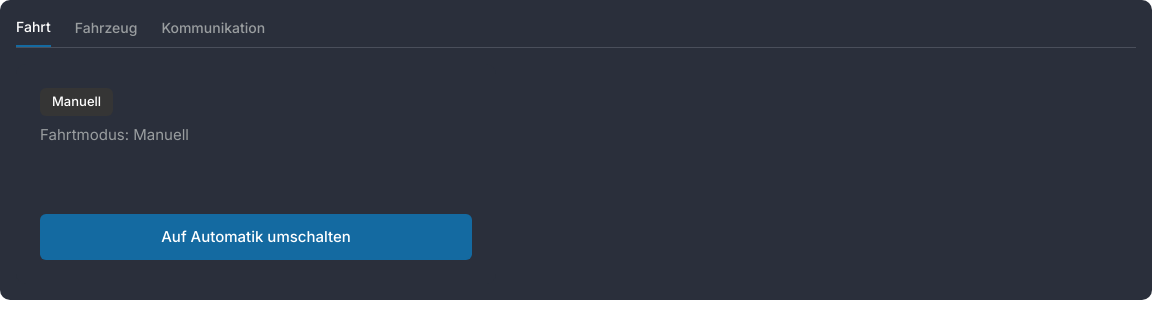
Test: AktionenPanel — OR-07 Kommunikation-Tab Badge › Kommunikation-Tab-Badge verschwindet nach Ablehnen
The width and height of the screenshot is (1152, 317).
Step 1. Click the button "Kommunikation" → point(213, 32), box [161,16,265,47]
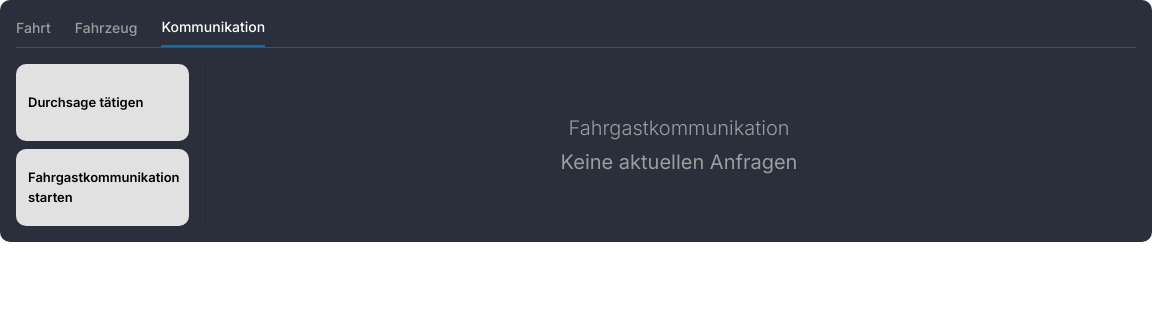
Step 2. Click the button "Fahrgastkommunikation starten" → point(102, 188), box [16,149,189,226]
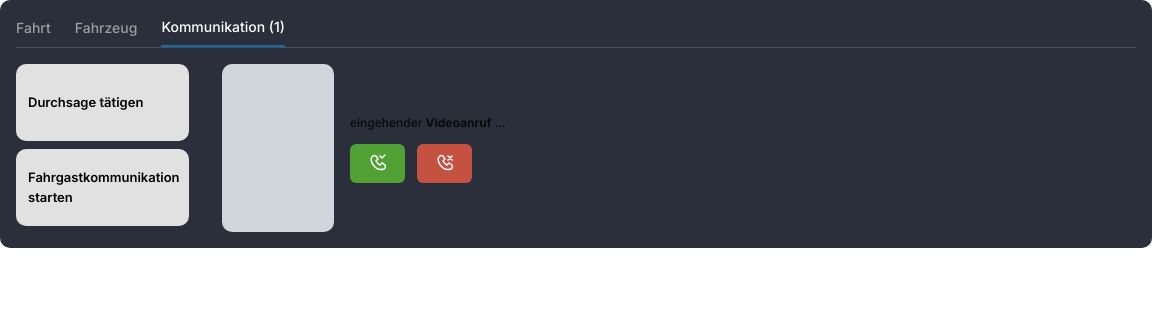
Step 3. Click the button named "Ablehnen" → point(444, 163), box [417,144,472,182]
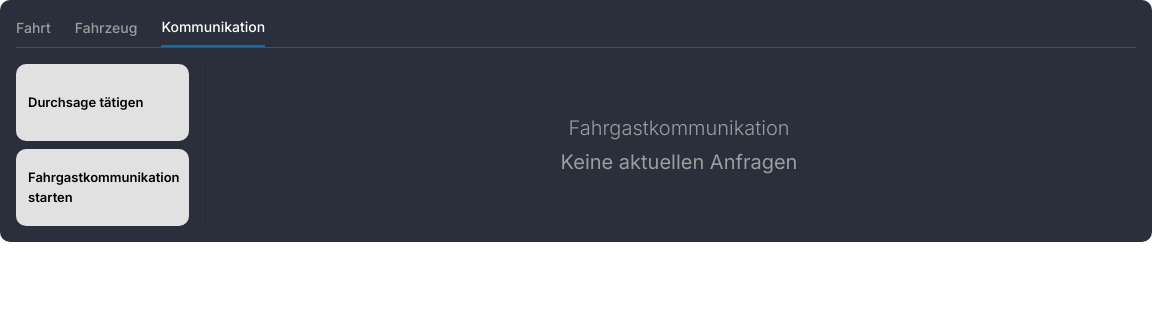
Result: the button "Kommunikation (1)" is gone
